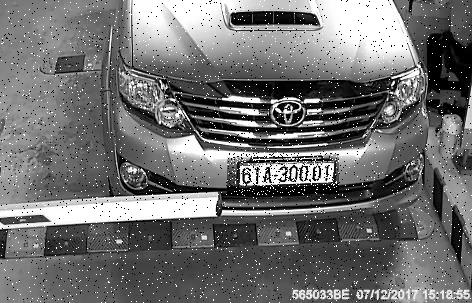License-plate: (228, 155, 340, 197)
